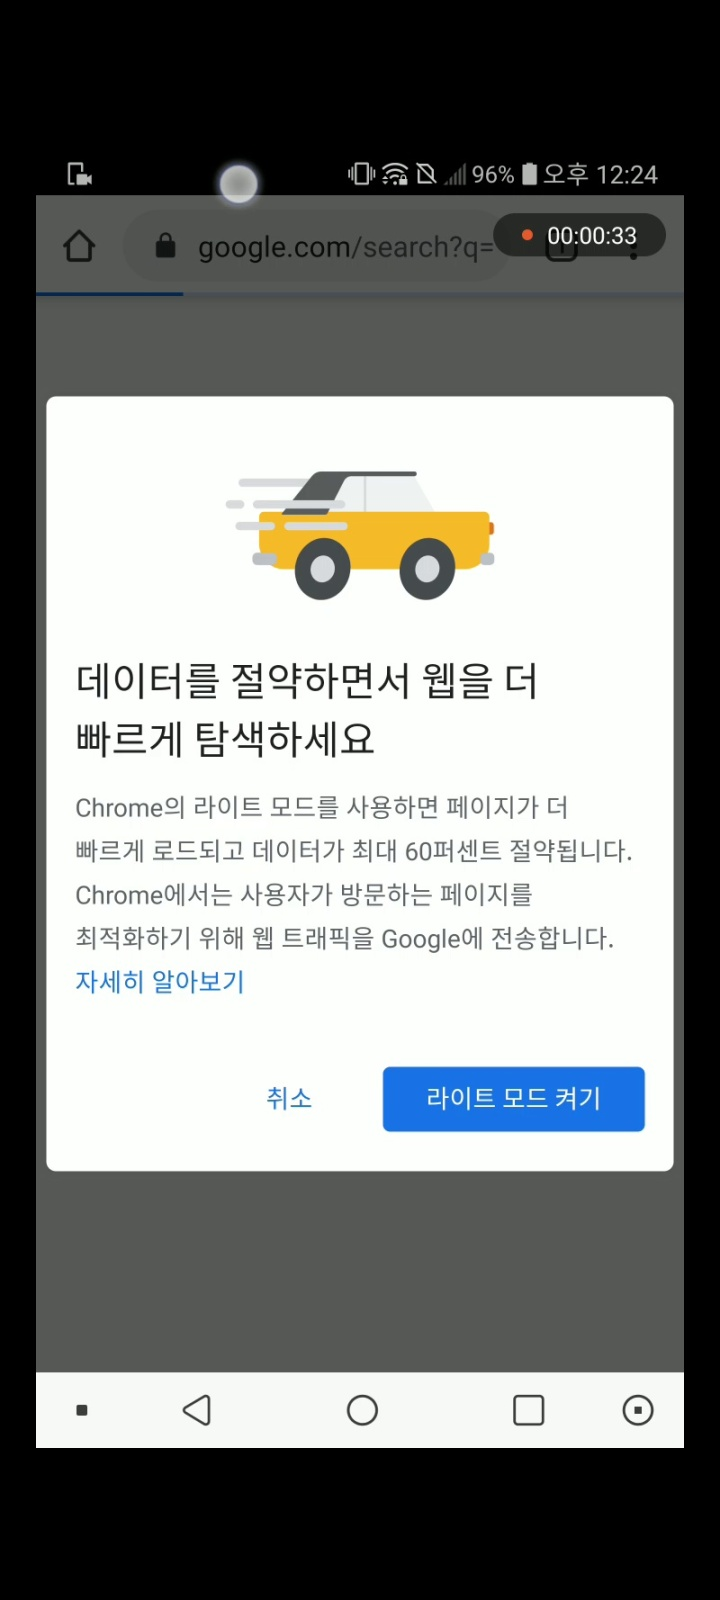Cursor: (218, 162, 263, 208)
